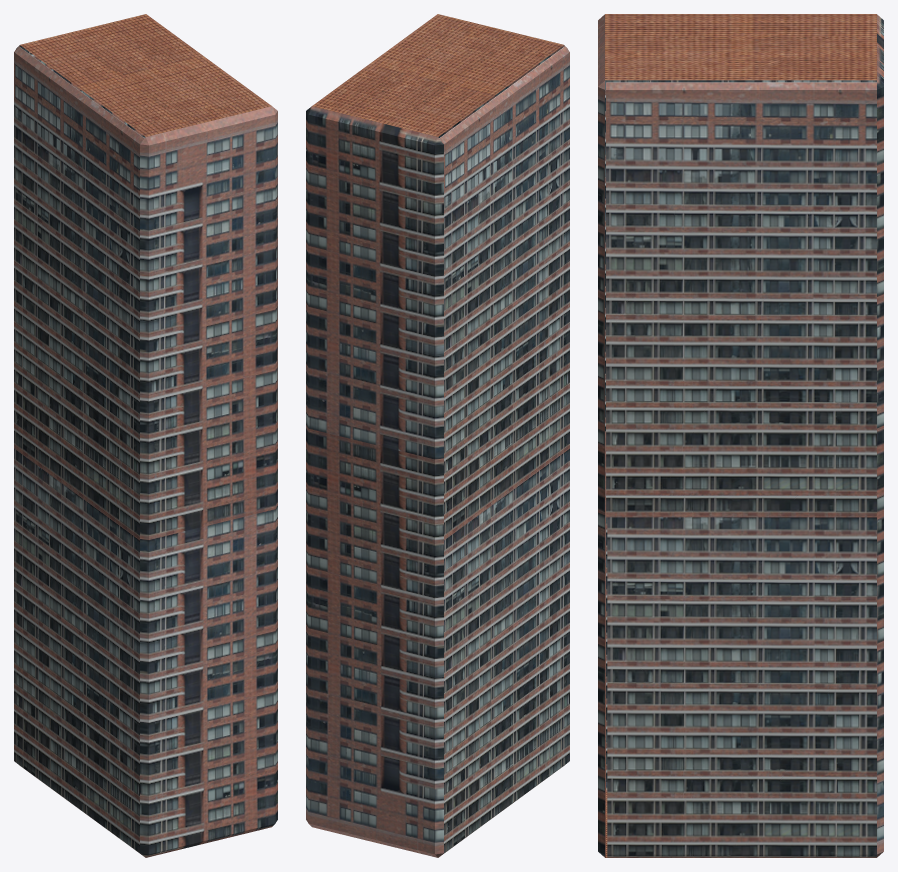
The model's file is building04.fbx.
The picture shows the model from 3 angles, left to right: view 1: azimuth 30°, elevation 25°; view 2: azimuth 150°, elevation 25°; view 3: azimuth 270°, elevation 25°; orthographic projection. The views are drawn at different scales.
Visible parts, largest first — view 1: pCube1; view 2: pCube1; view 3: pCube1.
Boxes of the visible parts, <box> form: pCube1: <box>14,14,277,857</box>; pCube1: <box>306,14,569,857</box>; pCube1: <box>598,14,883,857</box>.
Bounding box in the file's own units: 3 × 15 × 5.
1 material, 1 textured.
